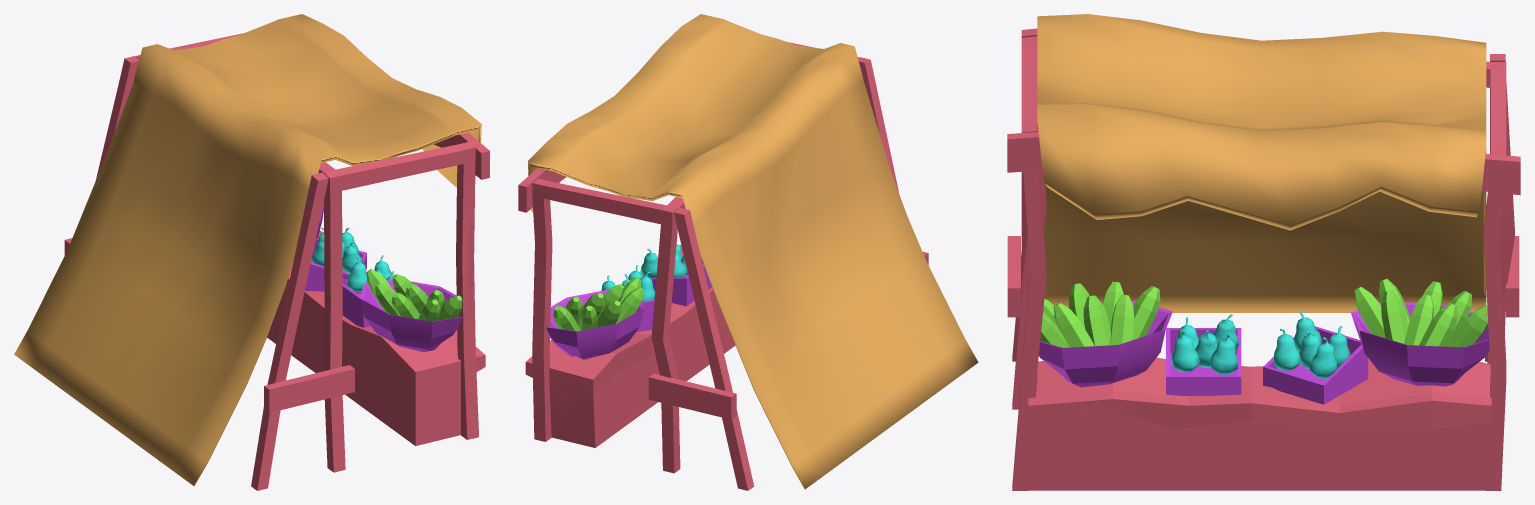
Rendered from market04 1.fbx.
3 renders of one model, left to right at view 1: azimuth 30°, elevation 25°; view 2: azimuth 150°, elevation 25°; view 3: azimuth 270°, elevation 25°, orthographic. The views are drawn at different scales.
Visible parts, largest first — view 1: Stall2; view 2: Stall2; view 3: Stall2.
Part boxes in pixels (<box>): Stall2: <box>14,14,489,490</box>; Stall2: <box>518,14,978,490</box>; Stall2: <box>1007,14,1520,490</box>.
Bounding box in the file's own units: 106 × 108 × 130.
